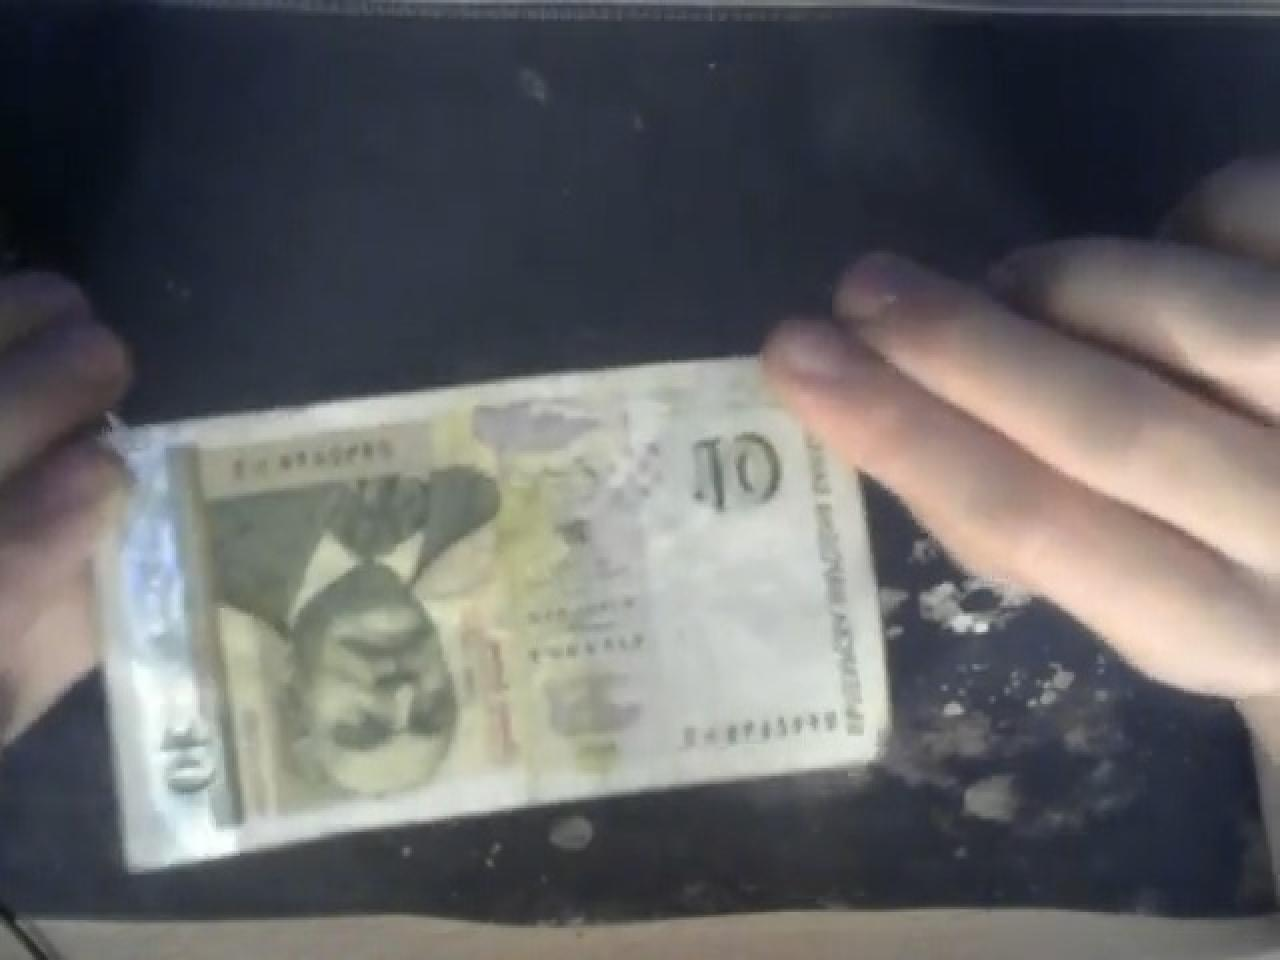10leva: (664, 383, 800, 522)
